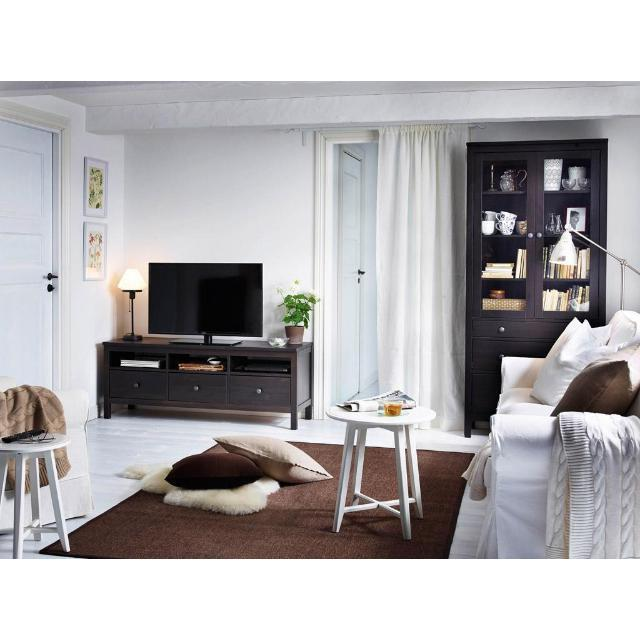couch: (464, 311, 640, 558)
lamp: (550, 222, 640, 309), (118, 268, 145, 340)
pillow: (531, 318, 618, 406), (551, 348, 640, 416), (214, 436, 332, 483), (165, 455, 264, 489)
plant: (276, 280, 320, 344)
rug: (41, 442, 472, 558)
shelf: (465, 138, 608, 435), (104, 337, 312, 429)
stool: (0, 434, 70, 558)
wall-art: (376, 124, 469, 430), (84, 157, 109, 218), (84, 223, 108, 281)
